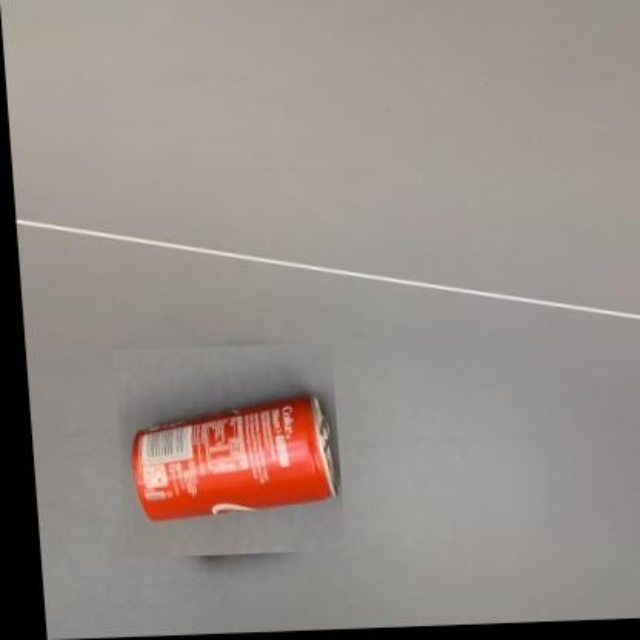trash: (132, 395, 335, 518)
